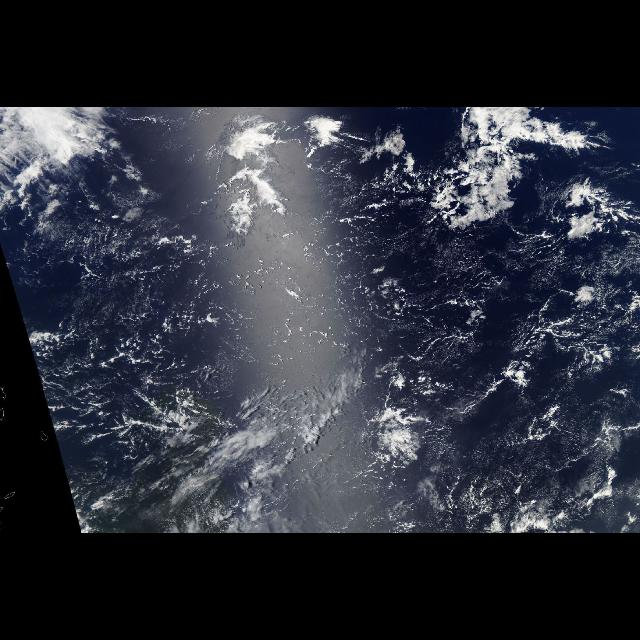Fish: (374, 110, 624, 244)
